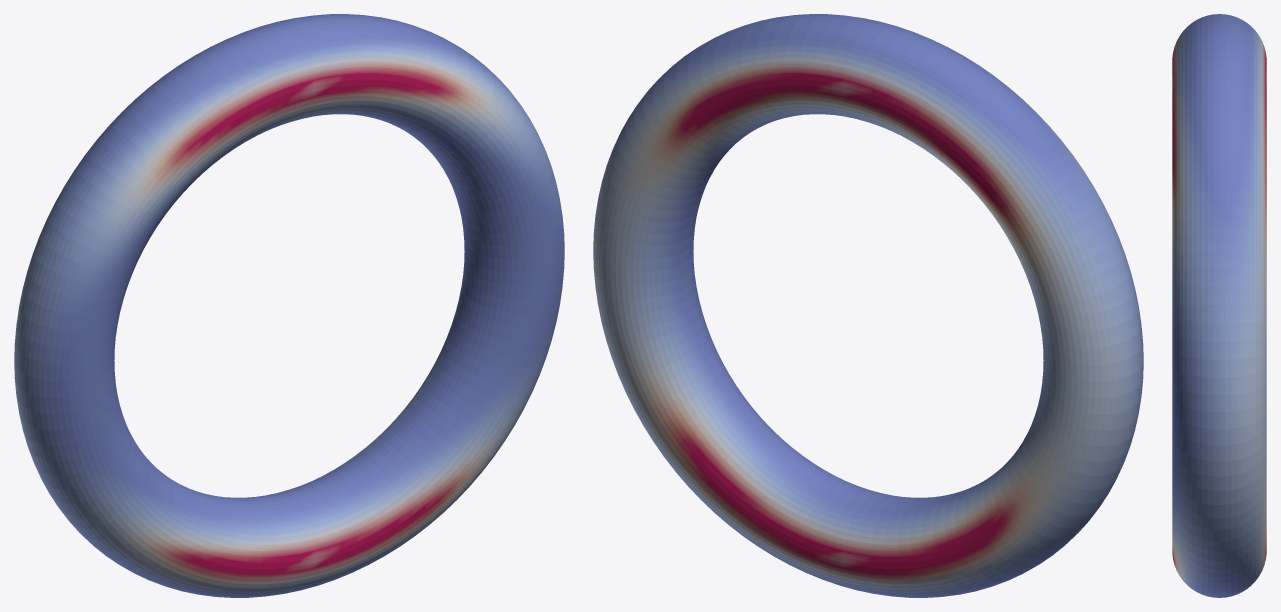
The picture shows the model from 3 angles, left to right: view 1: azimuth 30°, elevation 25°; view 2: azimuth 150°, elevation 25°; view 3: azimuth 270°, elevation 25°; orthographic projection. The views are drawn at different scales.
Parts seen in each view (by area): view 1: world; view 2: world; view 3: world.
Boxes of the visible parts, bbox=[...] form: world: bbox=[14, 14, 564, 597]; world: bbox=[593, 14, 1143, 597]; world: bbox=[1172, 14, 1266, 597].
Bounding box in the file's own units: 22.27 × 22.27 × 3.59.
